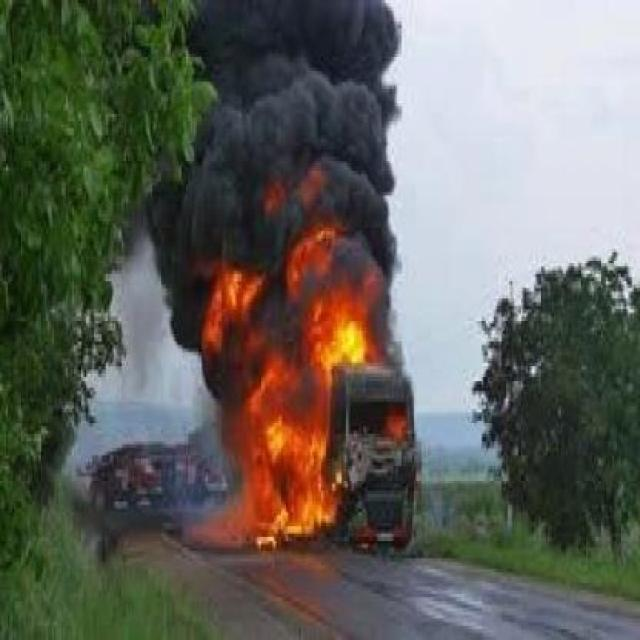Fire: (180, 222, 371, 576)
Smoke: (97, 0, 434, 365)
